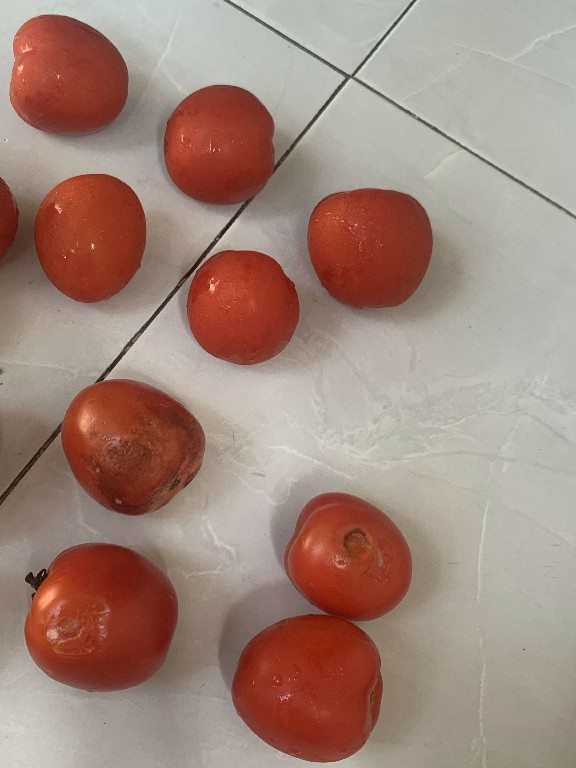NG: (16, 529, 187, 701), (62, 364, 216, 519), (270, 480, 423, 618)
OK: (228, 607, 400, 765), (300, 177, 450, 317), (159, 73, 293, 210), (182, 239, 309, 370), (29, 162, 153, 295), (5, 0, 129, 133)
